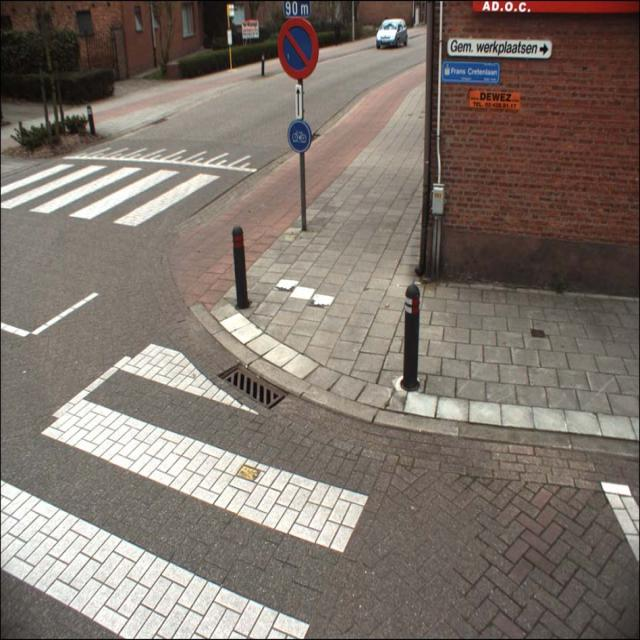parkyasak: (277, 17, 320, 80)
